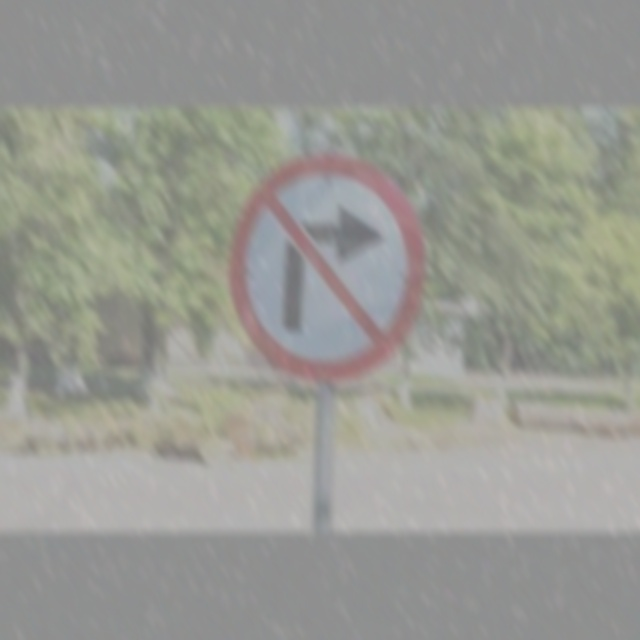Right_Turn_Prohibited: (227, 151, 424, 377)
